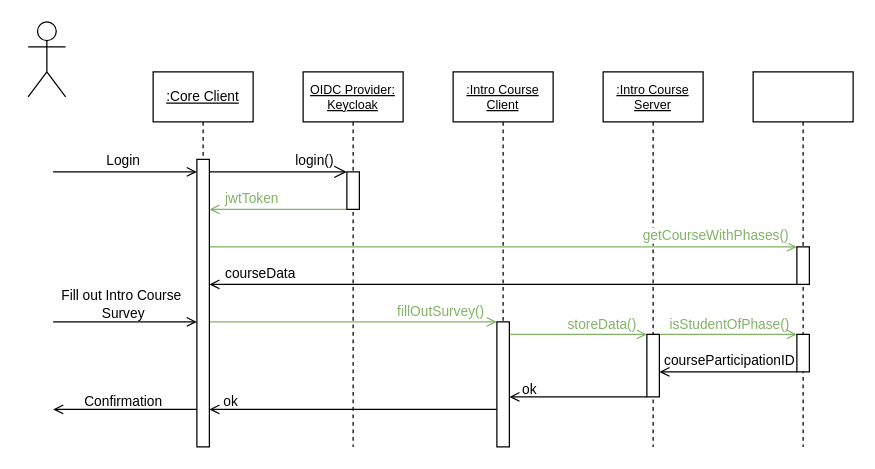
This 875x469 diagram has some shape labels left out. The centre of each missing label's shape, as x and y in pixels:
:Core Server: pixel 802 259
Student: pixel 46 59
